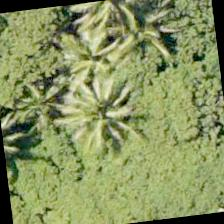Kelapa_Sawit: (55, 57, 156, 157)
